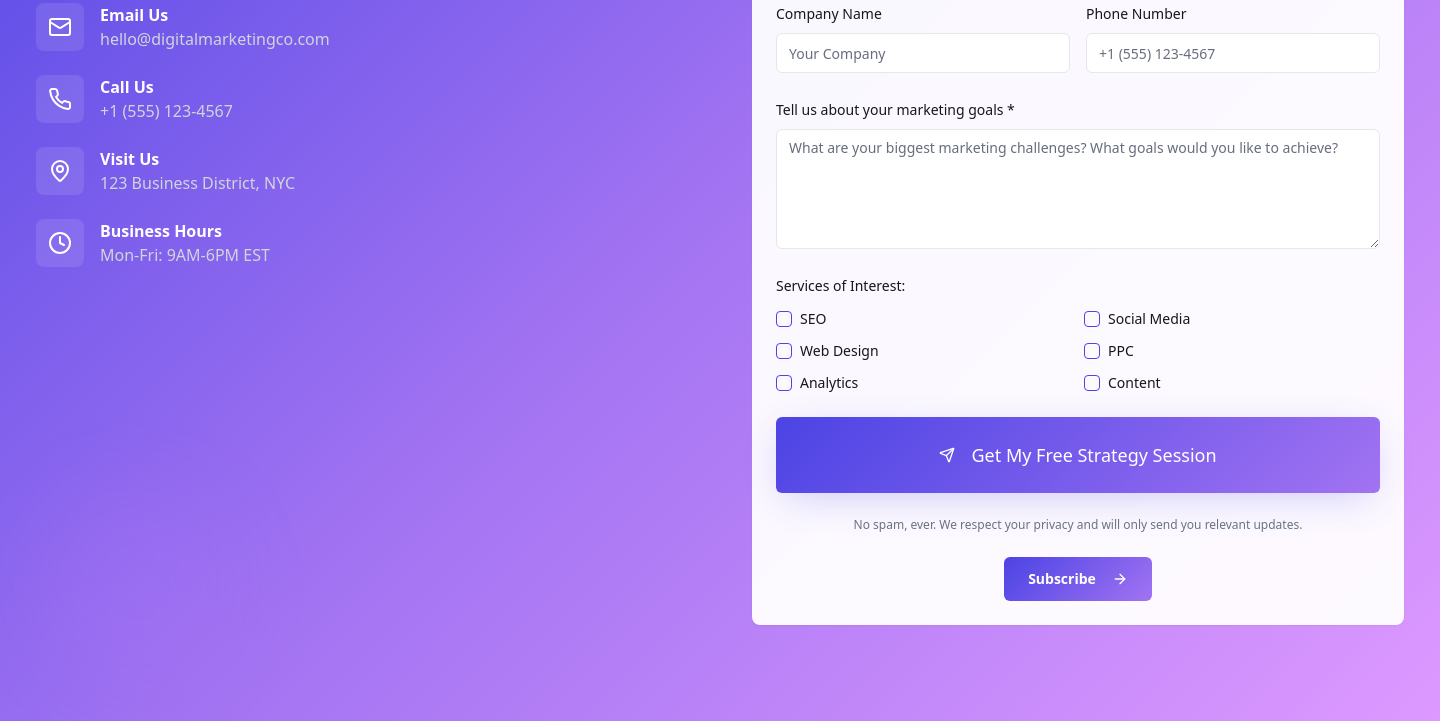
Test: ContactSection › Form validation › shows error messages for empty required fields
(page scrolled)
Step 1. Click the button "Get My Free Strategy Session" → (1078, 455), box x1=776 y1=417 x2=1380 y2=493
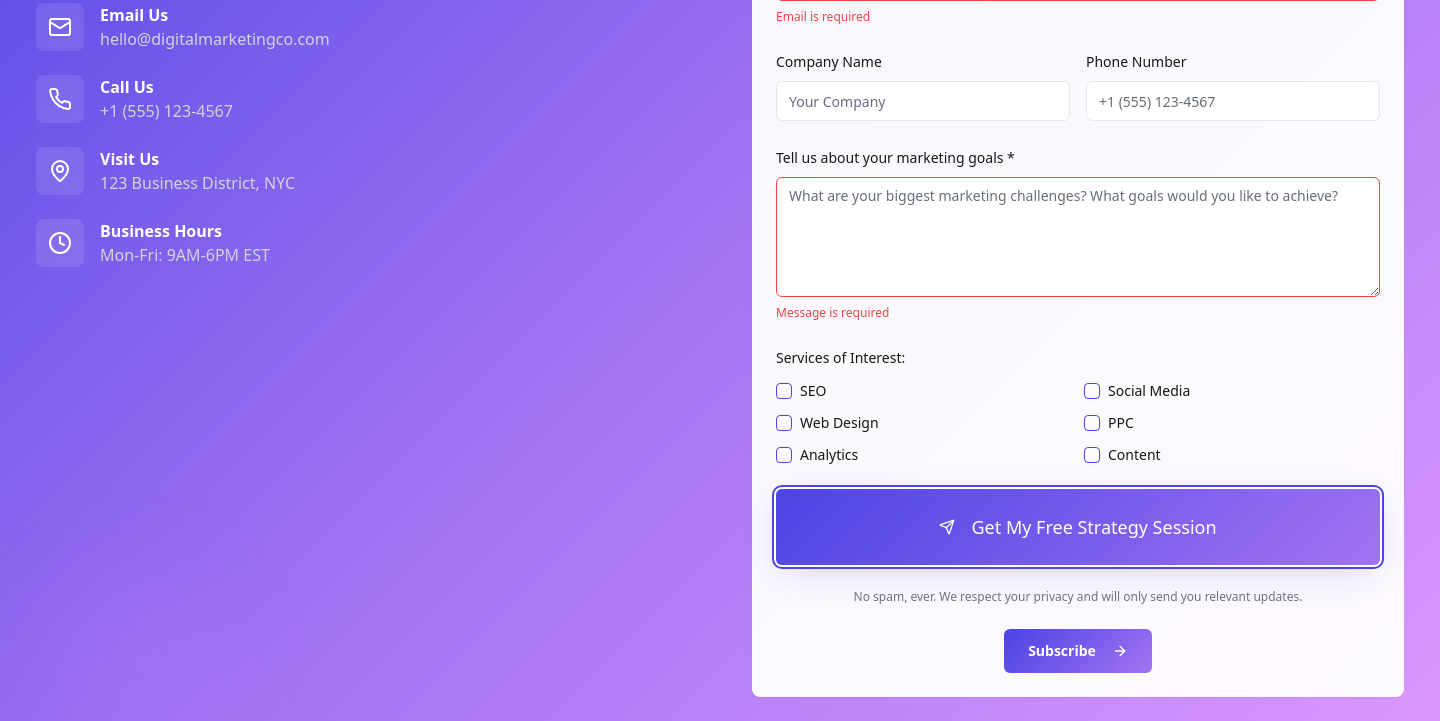
Now the text "Email is required" is shown, box x1=776 y1=8 x2=870 y2=25
Now the text "Message is required" is shown, box x1=776 y1=304 x2=889 y2=321
